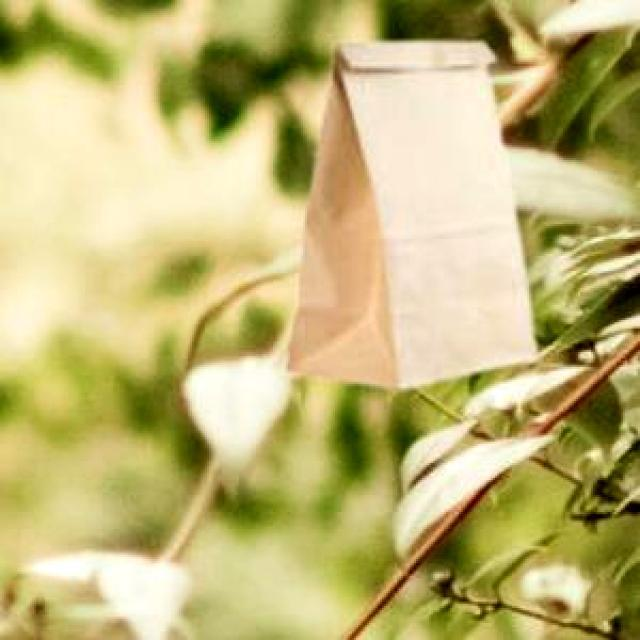Paper_Bag: (284, 39, 532, 386)
